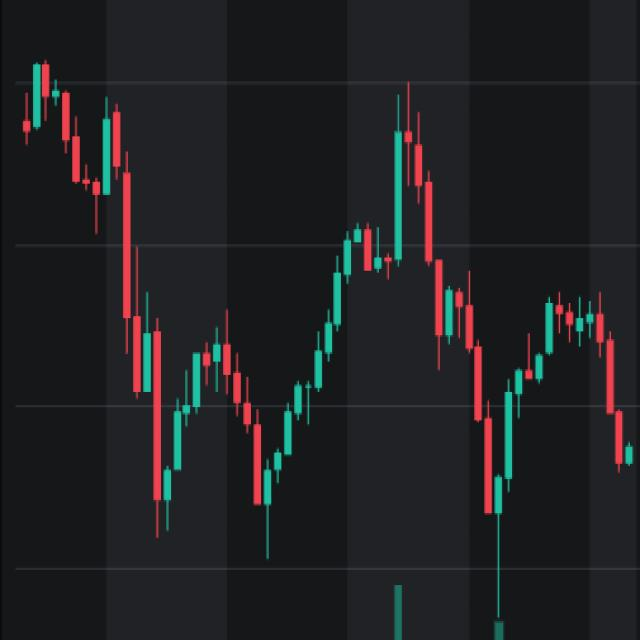Resistance-Emerging: (158, 282, 600, 519)
Resistance-breakout: (170, 81, 495, 402)
